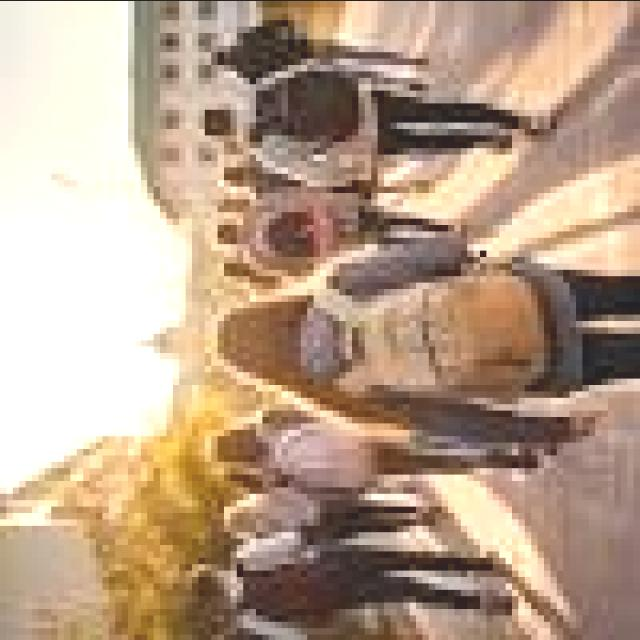backpack: (302, 270, 552, 411), (265, 407, 386, 495), (235, 551, 351, 631), (251, 72, 360, 155), (251, 199, 371, 265)
